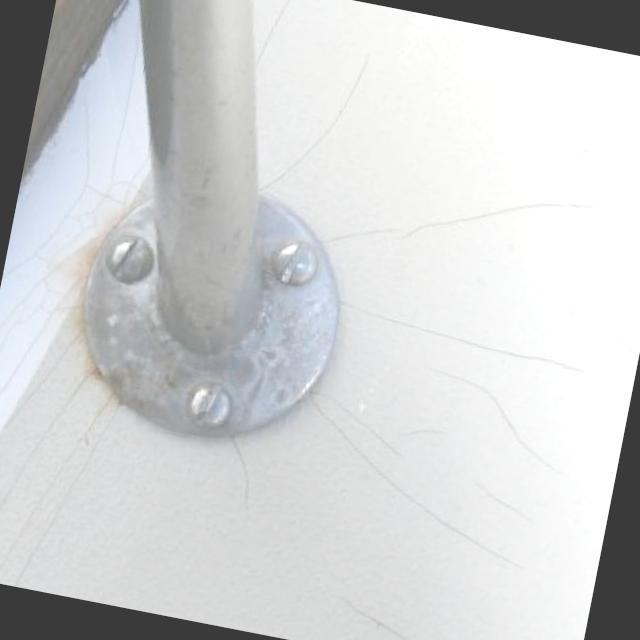crack: (265, 377, 553, 578), (329, 168, 584, 308), (346, 294, 618, 390), (417, 367, 582, 471), (305, 561, 435, 640), (462, 482, 548, 539)
